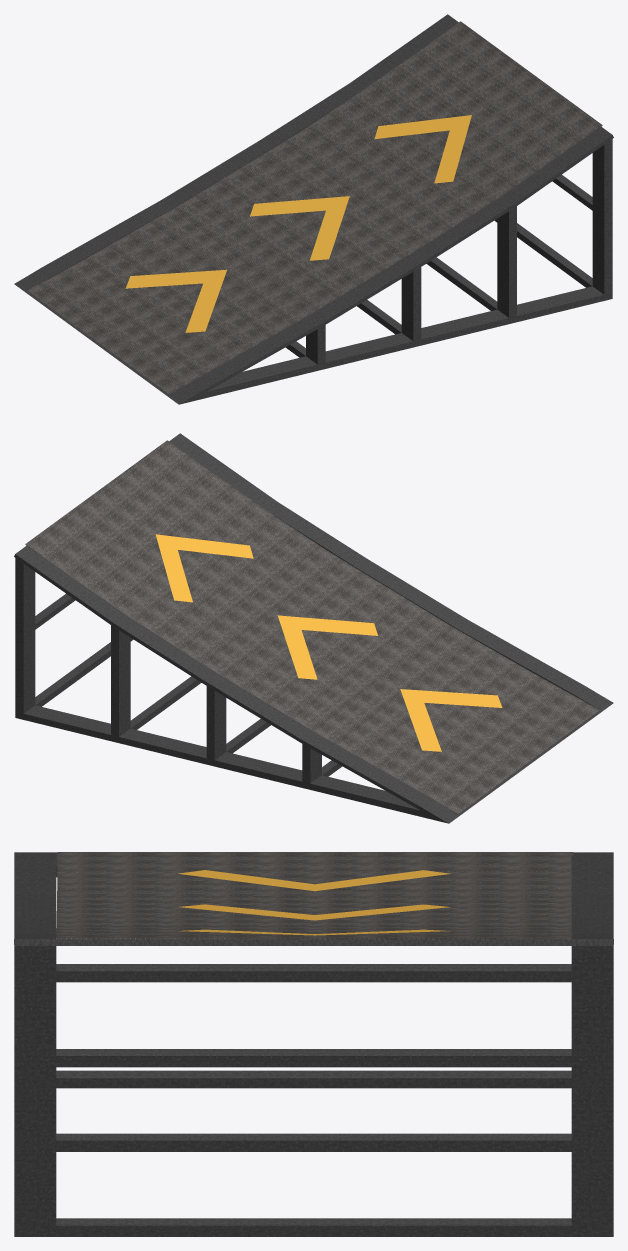
The model's file is Ramp 1.fbx.
3 views of the same model, one above another, from view 1: azimuth 30°, elevation 25°; view 2: azimuth 150°, elevation 25°; view 3: azimuth 270°, elevation 25° (orthographic). The views are drawn at different scales.
Visible parts, largest first — view 1: Ramp, Body, Yellow arrow; view 2: Ramp, Body, Yellow arrow; view 3: Body, Ramp, Yellow arrow.
Part boxes in pixels (x1,y1,x2,y2): Ramp: (27,21,602,394); Body: (14,14,613,404); Yellow arrow: (125,115,471,332); Ramp: (25,440,599,814); Body: (14,433,613,823); Yellow arrow: (155,534,502,751); Body: (14,852,613,1236); Ramp: (56,852,573,939); Yellow arrow: (178,870,450,935).
Size of the model in its own units: 900 by 326 by 591.
